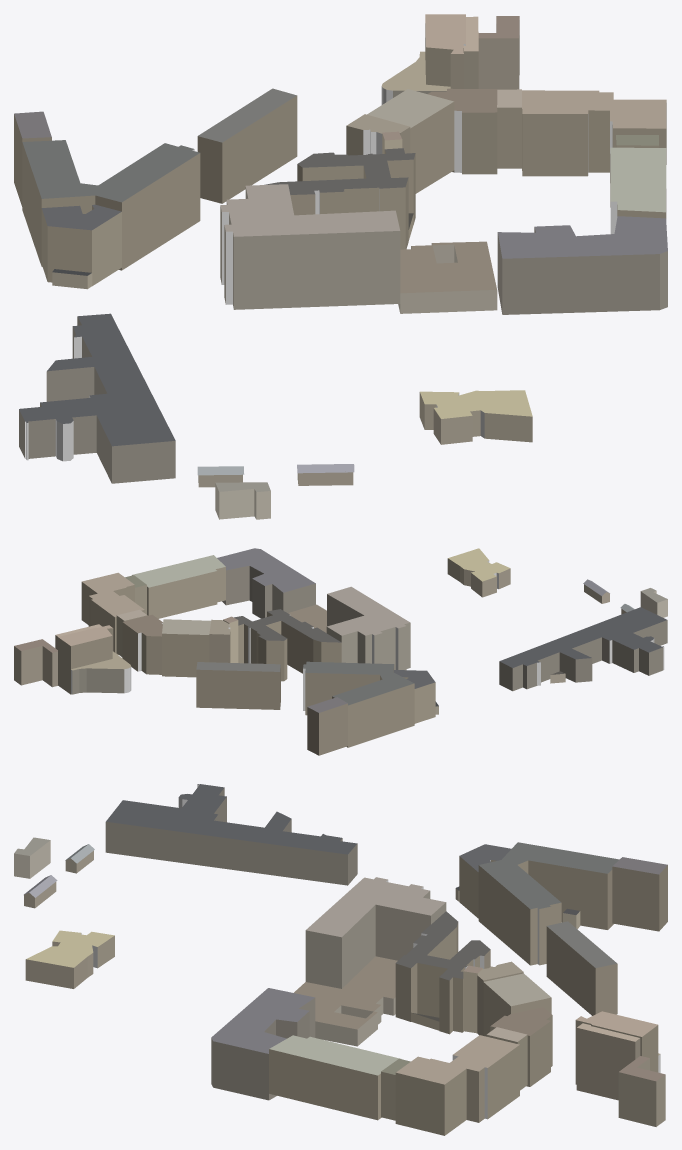
The picture shows the model from 3 angles, top to bottom: view 1: azimuth 30°, elevation 25°; view 2: azimuth 150°, elevation 25°; view 3: azimuth 270°, elevation 25°; orthographic projection. The views are drawn at different scales.
Visible parts, largest first — view 1: tuile; view 2: tuile; view 3: tuile.
Boxes of the visible parts, left/top/right/bottom form: tuile: left=14, top=14, right=667, bottom=519; tuile: left=14, top=548, right=667, bottom=755; tuile: left=14, top=784, right=667, bottom=1135.
Bounding box in the file's own units: 299 × 32.26 × 259.
